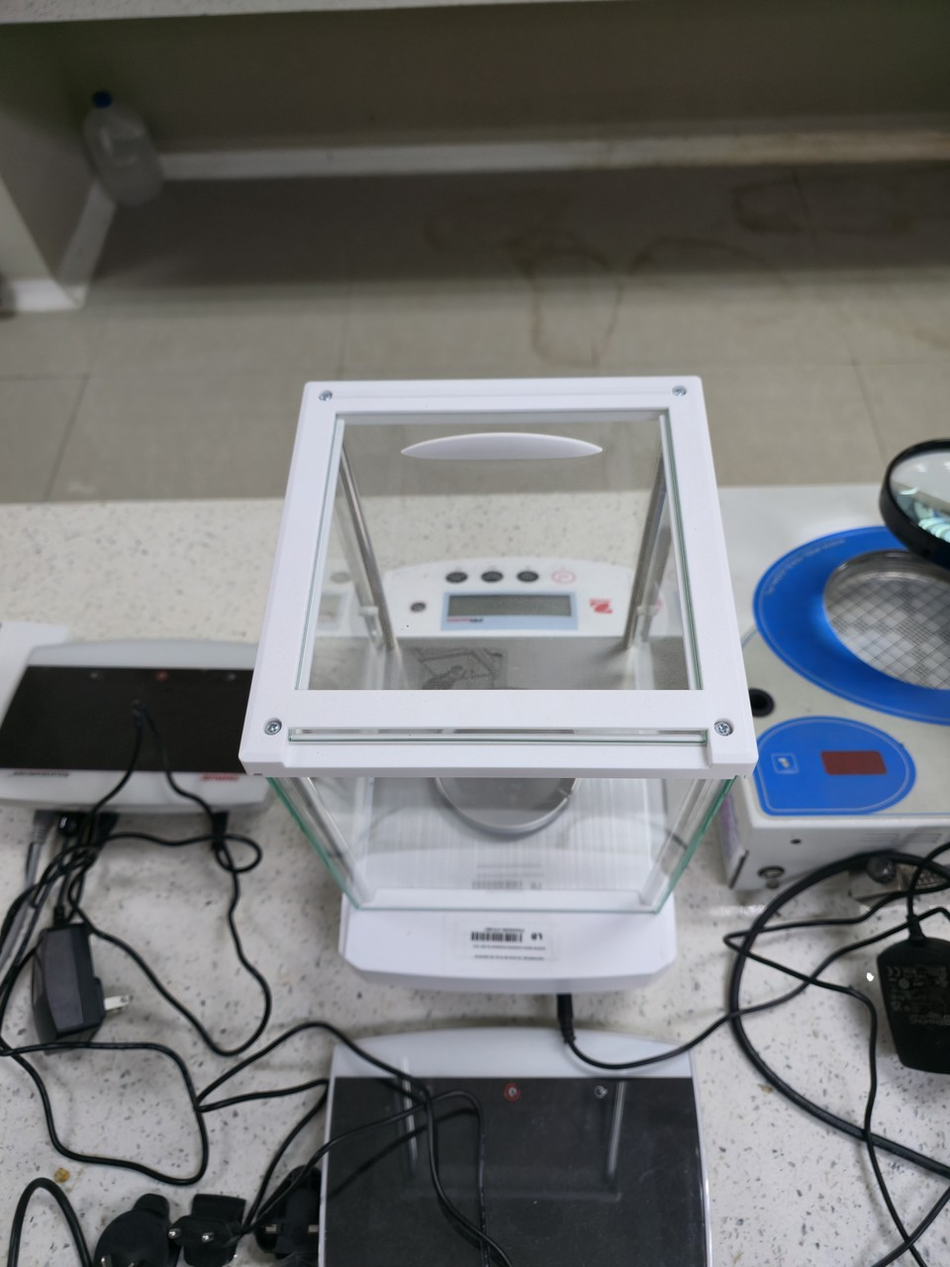ohaus_pr224: (228, 300, 760, 1024)
